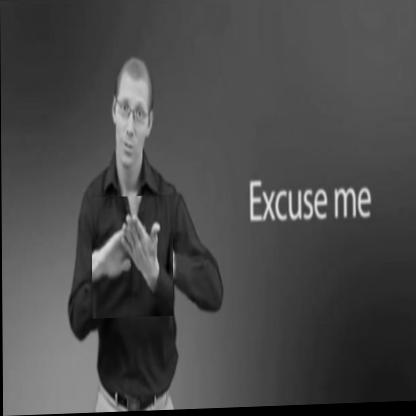ExcuseMe: (91, 196, 173, 319)
